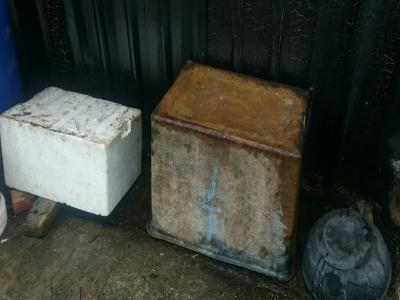bowl: (295, 206, 393, 293)
box: (144, 57, 314, 284)
styrofoam: (1, 86, 143, 216)
